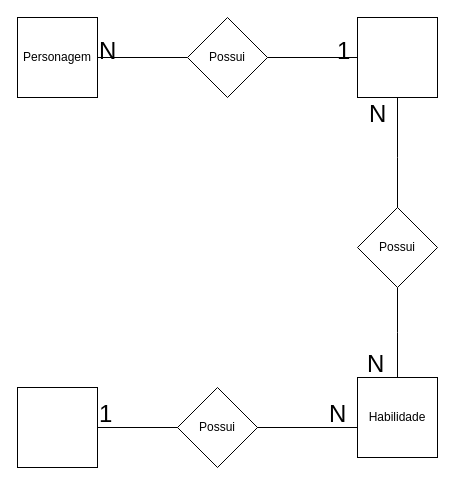
This 455x485 diagram has some shape labels left out. The shapes that lost their labels are listed below. From the top down, each one's box as (x1, y1, x2, y2) in pixels, then its label:
(356, 16, 438, 98): Classe
(16, 386, 98, 468): Tipo Habilidade
